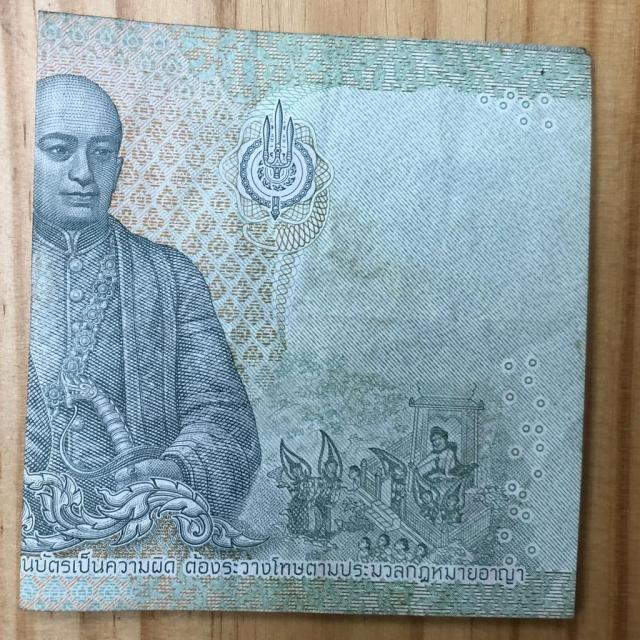THAI20: (19, 12, 591, 618)
